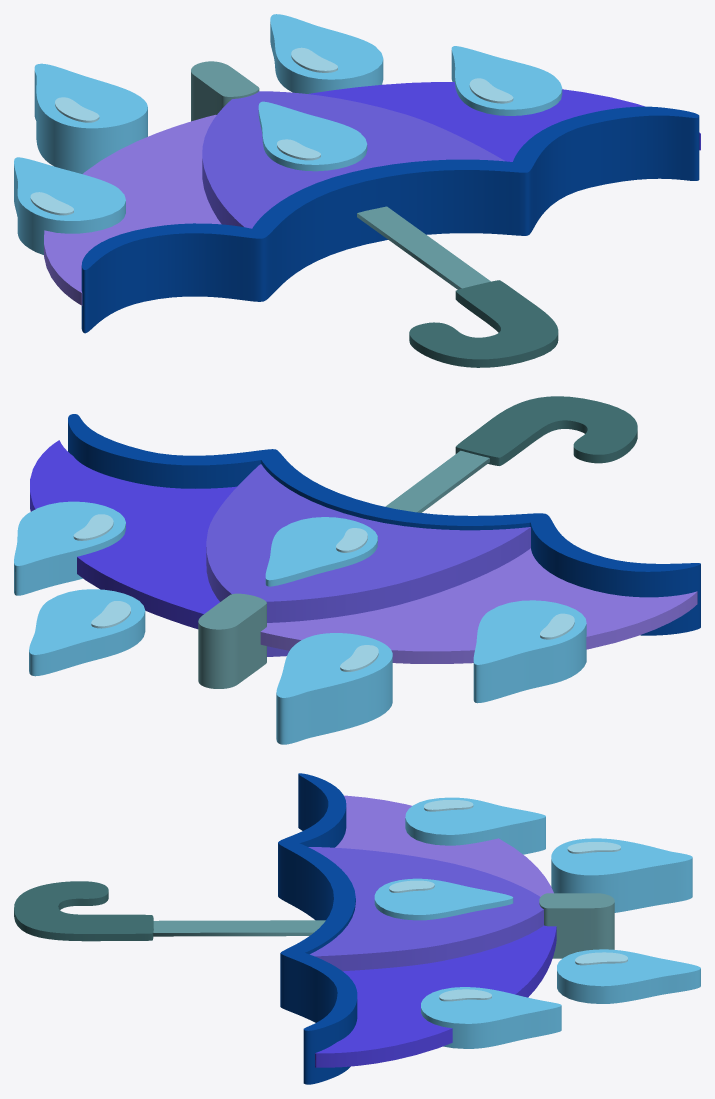
Rendered from emoji_u2614.glb.
The picture shows the model from 3 angles, top to bottom: view 1: azimuth 30°, elevation 25°; view 2: azimuth 150°, elevation 25°; view 3: azimuth 270°, elevation 25°; orthographic projection. The views are drawn at different scales.
Visible parts, largest first — view 1: emoji_u2614; view 2: emoji_u2614; view 3: emoji_u2614.
Part boxes in pixels (x1=…): emoji_u2614: x1=14, y1=14, x2=700, y2=367; emoji_u2614: x1=14, y1=396, x2=700, y2=744; emoji_u2614: x1=14, y1=773, x2=700, y2=1084.
Bounding box in the file's own units: 0.0311 × 0.0034 × 0.0347.
